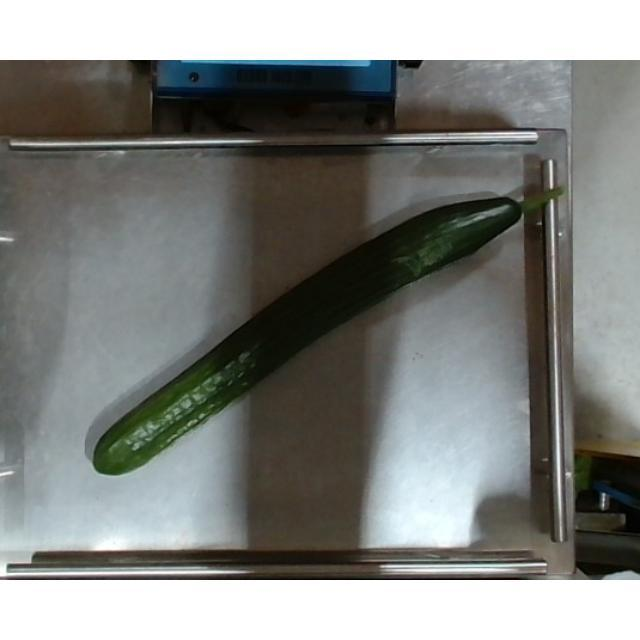cucumber: (93, 188, 562, 476)
